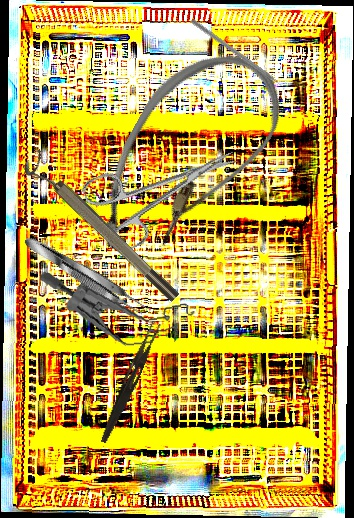Cannula: (77, 29, 298, 290)
Chopper: (186, 18, 292, 99)
Dressing Forceps: (98, 319, 162, 446)
Fixation Ring: (19, 148, 183, 312)
Iris Scissors: (79, 122, 253, 258)
Speculum: (39, 252, 199, 359)
Tissue Forceps: (20, 230, 150, 320)
